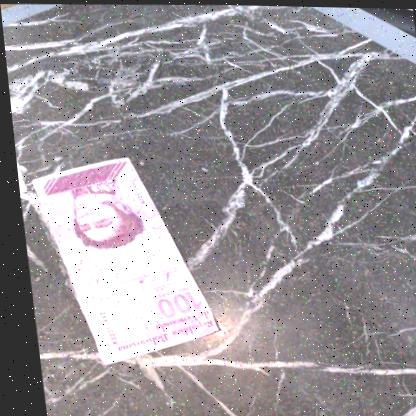one_hundred-front-vef: (24, 153, 215, 369)
